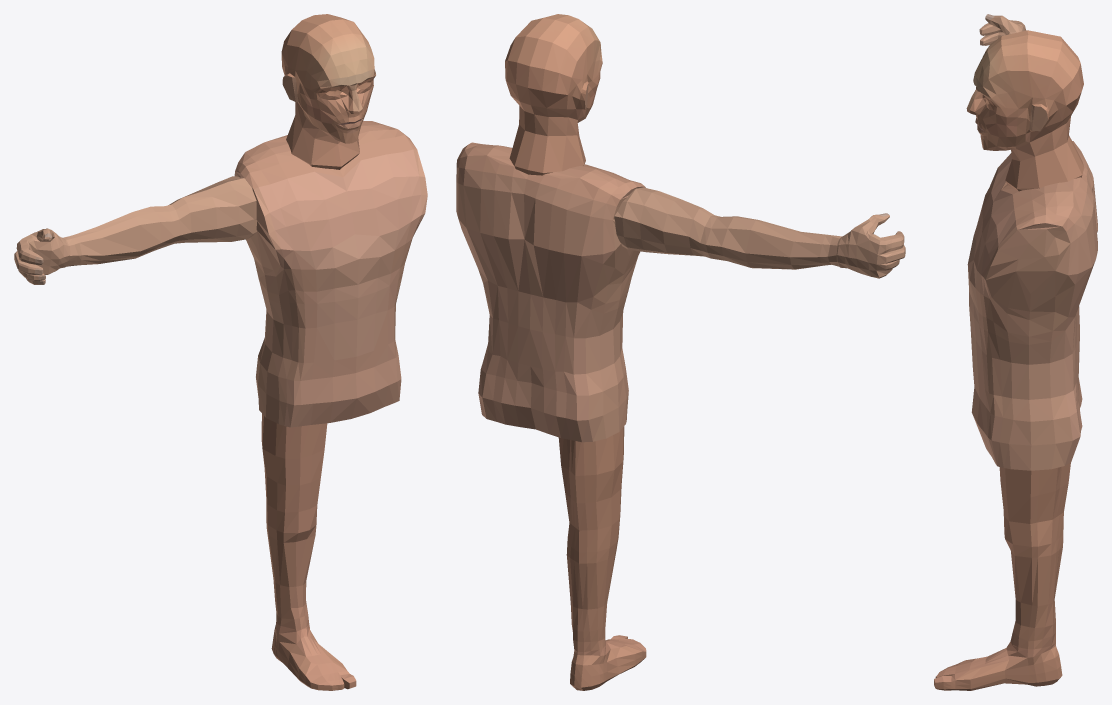
Rendered from baseSkinTonePale.glb.
The picture shows the model from 3 angles, left to right: view 1: azimuth 30°, elevation 25°; view 2: azimuth 150°, elevation 25°; view 3: azimuth 270°, elevation 25°; orthographic projection. The views are drawn at different scales.
Visible parts, largest first — view 1: nakedTorsoSkinTonePale, nakedFaceSkinTonePale, nakedUpperLegSkinTonePale, nakedLowerLegSkinTonePale, nakedUpperArmSkinTonePale, nakedLowerArmSkinTonePale, nakedFootSkinTonePale, nakedHandArmSkinTonePale; view 2: nakedTorsoSkinTonePale, nakedFaceSkinTonePale, nakedLowerArmSkinTonePale, nakedUpperArmSkinTonePale, nakedUpperLegSkinTonePale, nakedLowerLegSkinTonePale, nakedHandArmSkinTonePale, nakedFootSkinTonePale; view 3: nakedTorsoSkinTonePale, nakedFaceSkinTonePale, nakedLowerLegSkinTonePale, nakedFootSkinTonePale, nakedUpperLegSkinTonePale, nakedHandArmSkinTonePale.
Boxes of the visible parts, bbox=[...] form: nakedTorsoSkinTonePale: bbox=[234, 120, 427, 427]; nakedFaceSkinTonePale: bbox=[281, 14, 375, 169]; nakedUpperLegSkinTonePale: bbox=[261, 414, 327, 512]; nakedLowerLegSkinTonePale: bbox=[266, 499, 317, 629]; nakedUpperArmSkinTonePale: bbox=[165, 176, 256, 245]; nakedLowerArmSkinTonePale: bbox=[62, 206, 174, 266]; nakedFootSkinTonePale: bbox=[271, 622, 356, 690]; nakedHandArmSkinTonePale: bbox=[14, 228, 70, 284]; nakedTorsoSkinTonePale: bbox=[456, 142, 645, 442]; nakedFaceSkinTonePale: bbox=[505, 14, 602, 175]; nakedLowerArmSkinTonePale: bbox=[706, 216, 841, 269]; nakedUpperArmSkinTonePale: bbox=[614, 187, 720, 258]; nakedUpperLegSkinTonePale: bbox=[558, 426, 624, 530]; nakedLowerLegSkinTonePale: bbox=[566, 516, 620, 652]; nakedHandArmSkinTonePale: bbox=[836, 213, 905, 278]; nakedFootSkinTonePale: bbox=[570, 635, 646, 690]; nakedTorsoSkinTonePale: bbox=[967, 141, 1097, 470]; nakedFaceSkinTonePale: bbox=[966, 30, 1084, 191]; nakedLowerLegSkinTonePale: bbox=[1003, 512, 1063, 649]; nakedFootSkinTonePale: bbox=[934, 641, 1062, 690]; nakedUpperLegSkinTonePale: bbox=[999, 462, 1070, 523]; nakedHandArmSkinTonePale: bbox=[979, 14, 1025, 52].
Bounding box in the file's own units: 1.31 × 1.94 × 0.4338.
